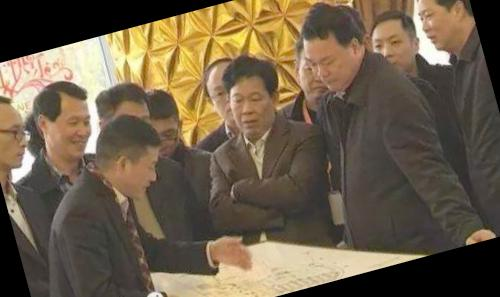no_helmet: (290, 0, 377, 99), (84, 100, 169, 201), (19, 69, 103, 168), (212, 51, 290, 142), (361, 2, 426, 74), (402, 0, 480, 60), (281, 30, 334, 114), (0, 81, 43, 177), (137, 84, 191, 158), (90, 74, 153, 137), (196, 53, 244, 130)
